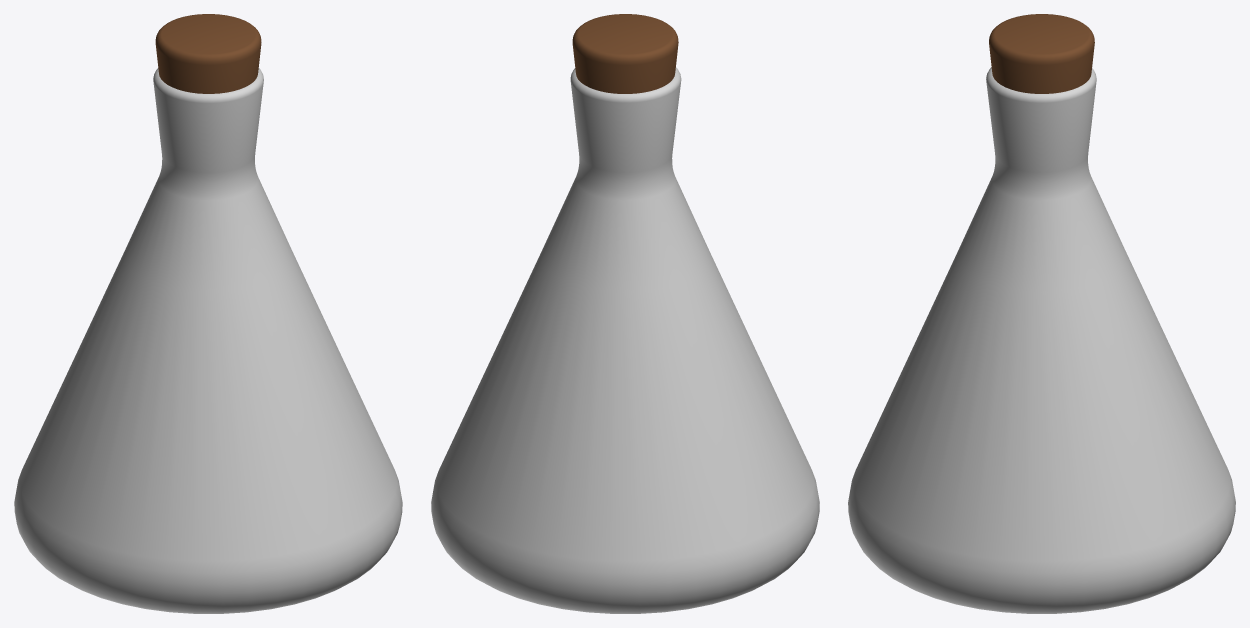
Rendered from potions.glb.
3 renders of one model, left to right at view 1: azimuth 30°, elevation 25°; view 2: azimuth 150°, elevation 25°; view 3: azimuth 270°, elevation 25°, orthographic.
Parts seen in each view (by area): view 1: Health_p_tall, Health_p_cork; view 2: Health_p_tall, Health_p_cork; view 3: Health_p_tall, Health_p_cork.
Part boxes in pixels (bbox=[...]): Health_p_tall: bbox=[14, 68, 402, 613]; Health_p_cork: bbox=[155, 14, 261, 93]; Health_p_tall: bbox=[431, 67, 819, 613]; Health_p_cork: bbox=[572, 14, 678, 93]; Health_p_tall: bbox=[848, 67, 1235, 613]; Health_p_cork: bbox=[989, 14, 1094, 93].
Size of the model in its own units: 0.6128 by 0.8966 by 0.6137.
